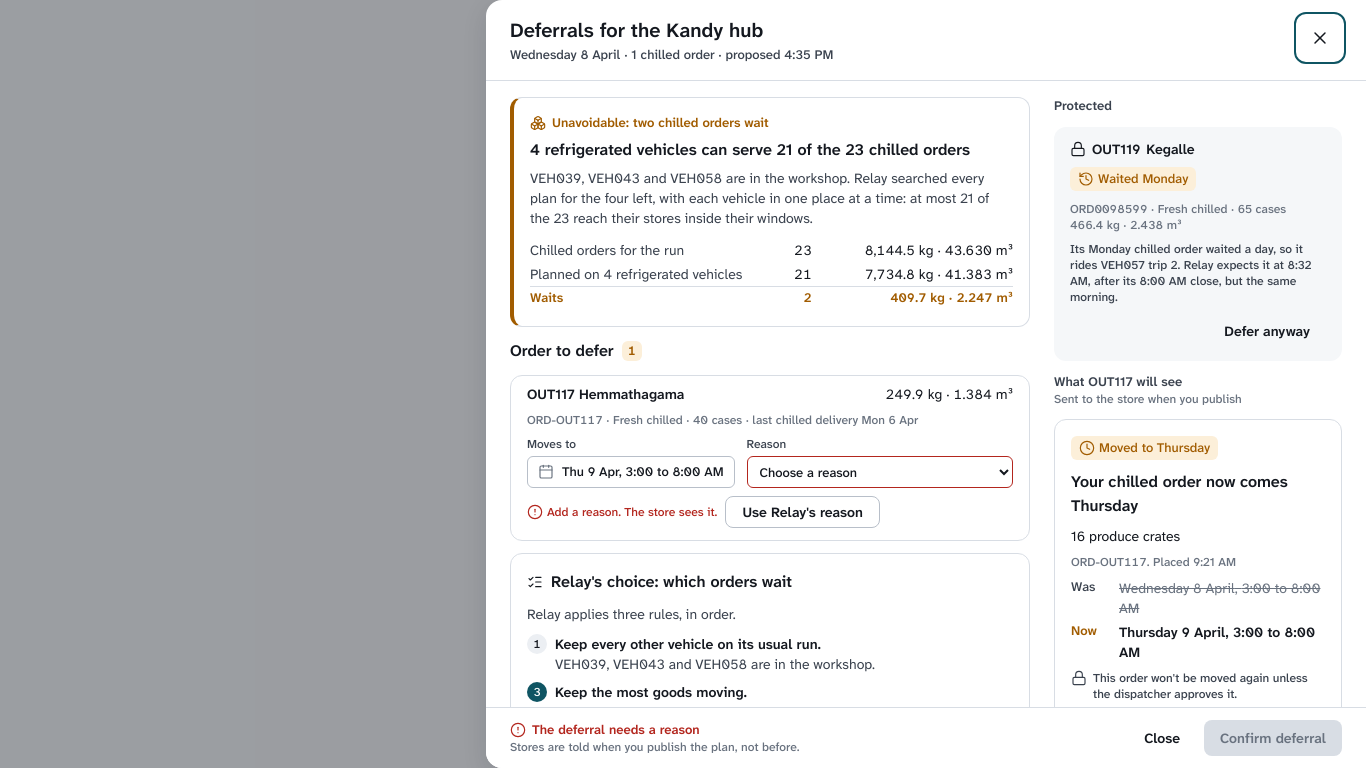
Scenario: the deferrals drawer › asks for the override's note with a label, focuses it, and says what the override changes
The image size is (1366, 768).
Click the button "Defer anyway" at (1267, 331), box [1208,313,1326,349]
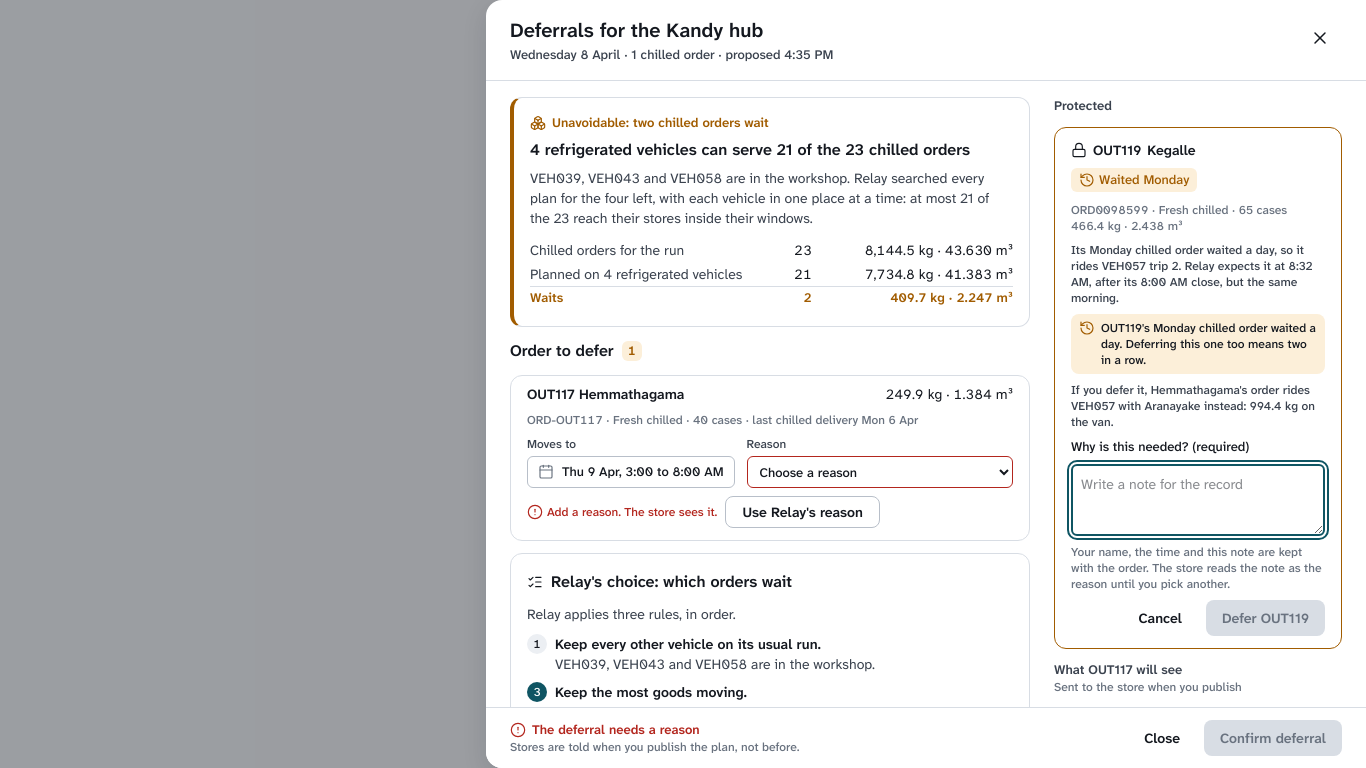
Expected: the text "If you defer it, Hemmathagama's order rides VEH057 with Aranayake instead: 994.4 kg on the van." is shown, [1071,382,1315,430]
